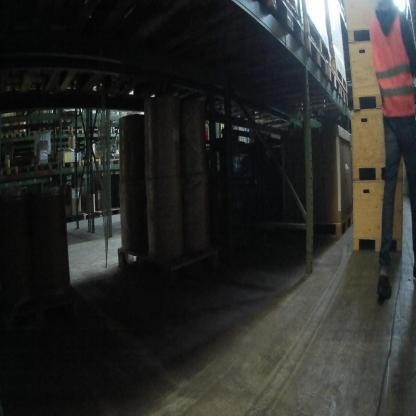pallets: (295, 209, 354, 239), (352, 234, 416, 261), (344, 21, 399, 50), (344, 89, 411, 112), (349, 158, 402, 179)
